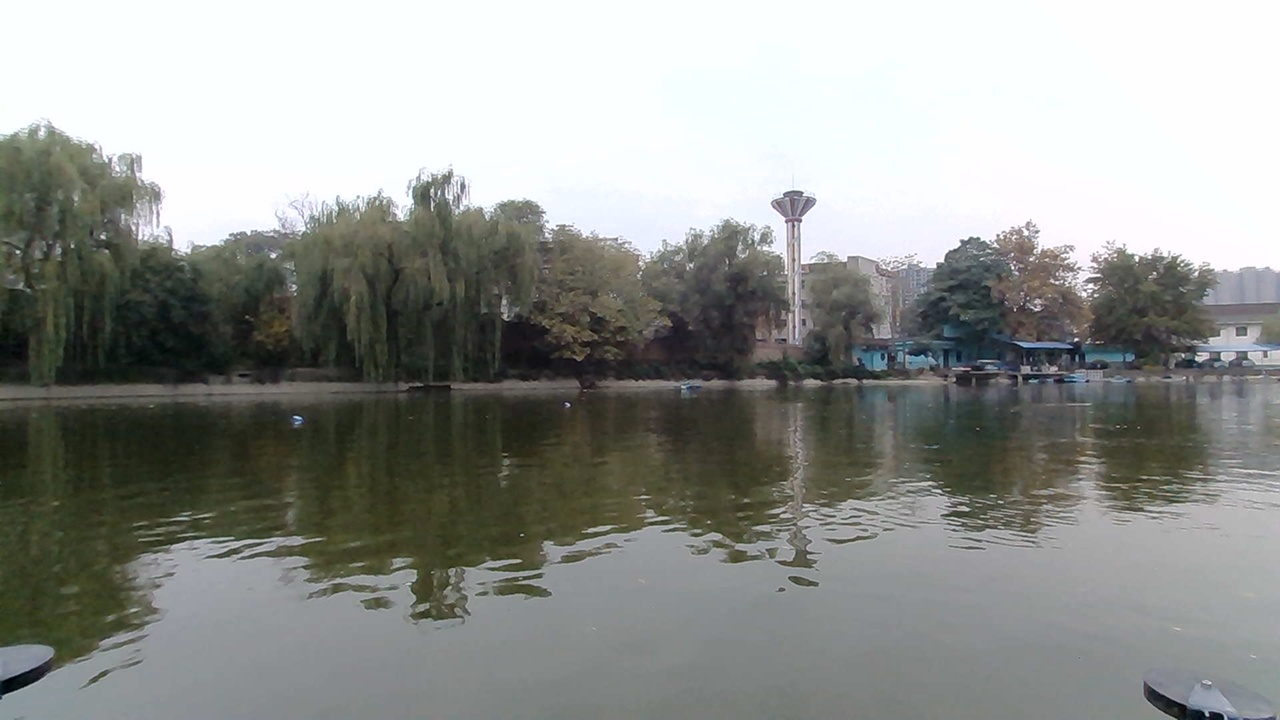bottle: (283, 412, 314, 430)
